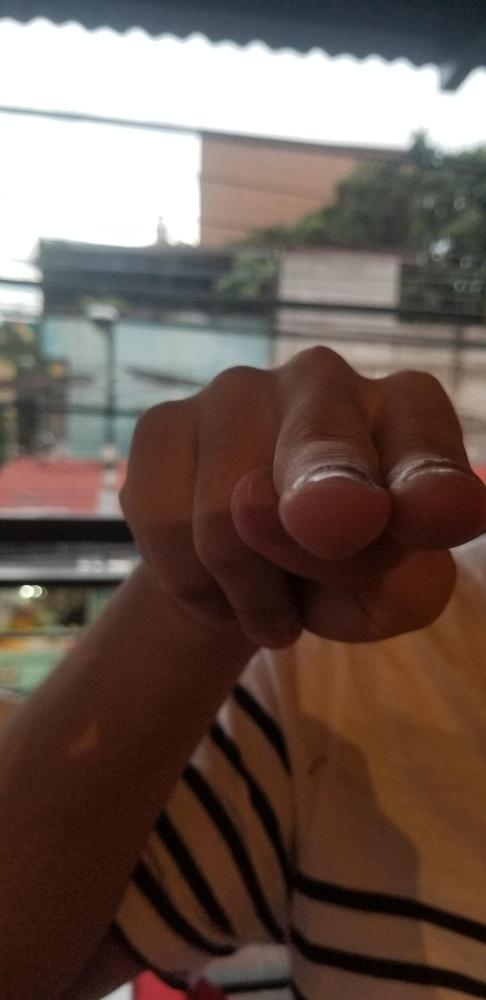n: (118, 344, 485, 649)
